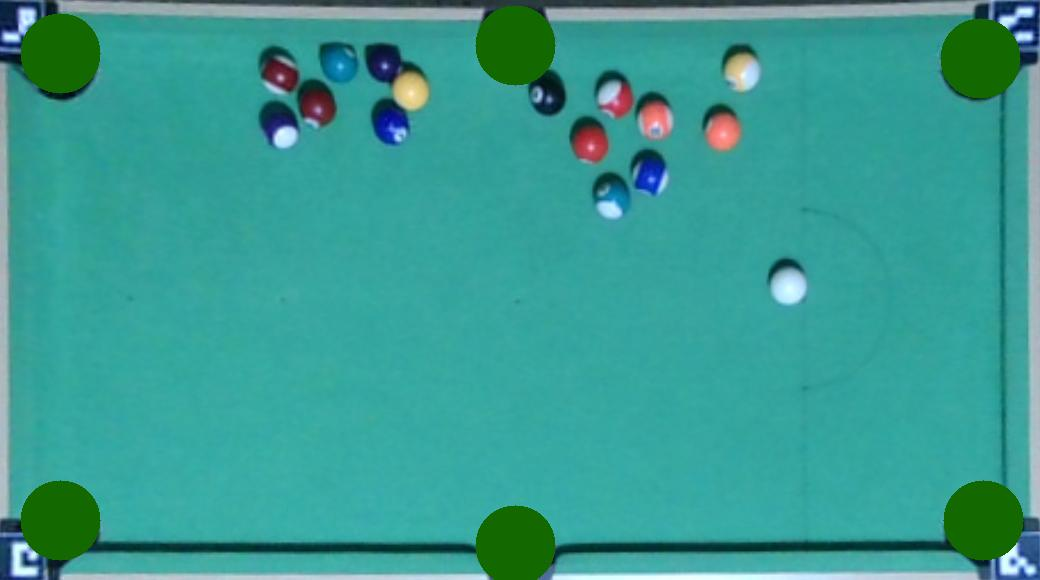Ball: (260, 103, 300, 151), (591, 174, 631, 221), (390, 68, 432, 111), (594, 75, 636, 118), (722, 50, 764, 92), (260, 51, 301, 94), (629, 152, 669, 196), (319, 43, 360, 83), (297, 85, 337, 126), (570, 123, 610, 164), (703, 111, 743, 151), (371, 105, 411, 145), (528, 75, 566, 115), (769, 268, 809, 306), (365, 45, 404, 83), (637, 101, 676, 139)
